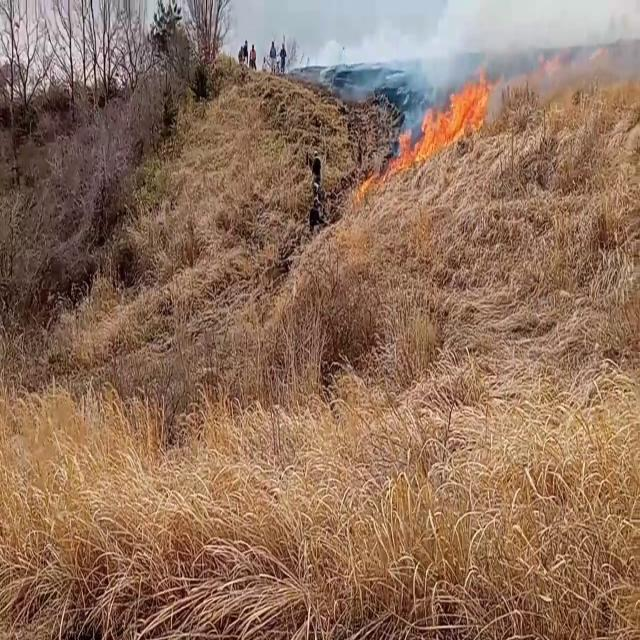Fire: (395, 64, 495, 168)
